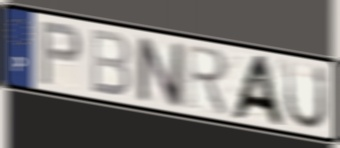A: (227, 53, 288, 129)
B: (89, 26, 133, 100)
N: (134, 33, 186, 111)
P: (38, 19, 84, 88)
R: (184, 41, 233, 120)
U: (283, 59, 329, 132)
